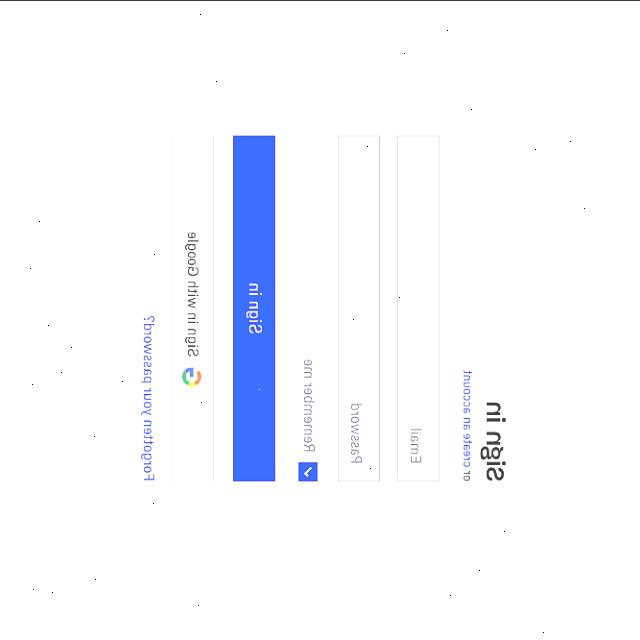QLabel: (480, 395, 508, 485), (142, 315, 156, 481), (186, 232, 200, 356), (302, 358, 318, 452), (463, 368, 473, 466), (246, 281, 264, 333), (464, 469, 472, 481)
VBtn: (170, 133, 216, 481), (233, 133, 277, 480)
VCheckbox: (298, 459, 320, 483)
VIcon: (183, 366, 203, 386)
VTextField: (397, 133, 441, 481), (338, 133, 382, 480)
